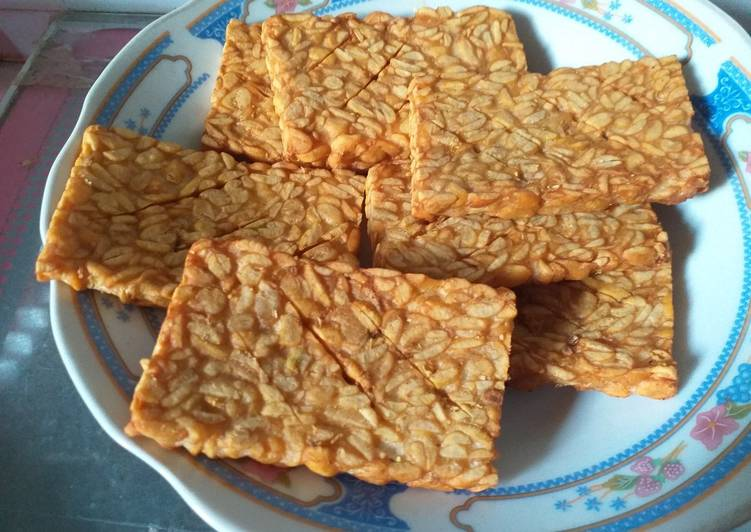Tempe: (127, 250, 530, 496), (47, 106, 354, 280), (404, 73, 713, 204), (271, 22, 543, 134)
